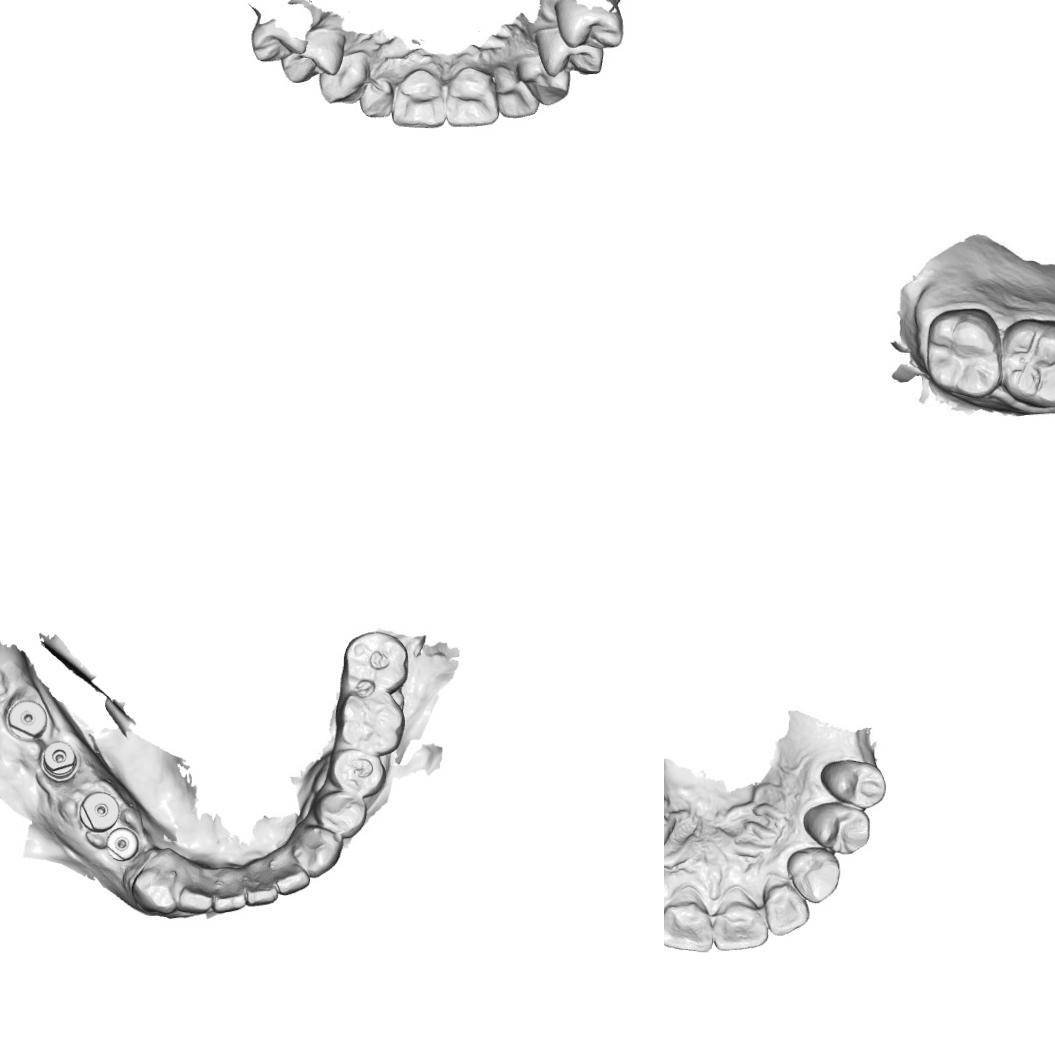canine: (787, 847, 843, 906), (318, 48, 374, 106), (290, 822, 346, 880), (128, 861, 185, 916), (514, 55, 571, 107)
implant: (33, 733, 83, 782), (74, 784, 121, 831), (4, 694, 47, 739), (102, 823, 144, 863)
incisor: (713, 886, 774, 954), (664, 884, 720, 955), (442, 65, 500, 130), (390, 69, 448, 131), (764, 876, 810, 938), (492, 61, 540, 120), (356, 69, 398, 121), (272, 850, 311, 899), (242, 858, 279, 908), (211, 867, 248, 915), (178, 870, 218, 914)
molar: (923, 311, 1002, 401), (339, 630, 414, 698), (998, 326, 1055, 406), (337, 688, 408, 751)
premolar: (800, 799, 874, 856), (279, 24, 347, 86), (817, 756, 889, 811), (551, 0, 626, 51), (535, 28, 606, 80), (244, 13, 312, 66), (312, 787, 370, 840), (326, 751, 385, 798)
